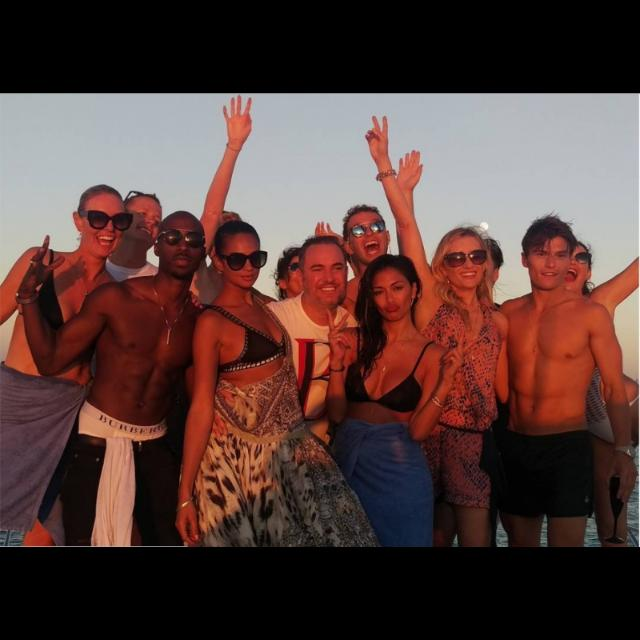head: (72, 184, 128, 262), (153, 210, 210, 280), (298, 237, 350, 310), (211, 219, 263, 291), (368, 255, 419, 323), (522, 225, 572, 291), (440, 228, 490, 292), (342, 211, 392, 265), (118, 192, 164, 248), (552, 240, 594, 294)
